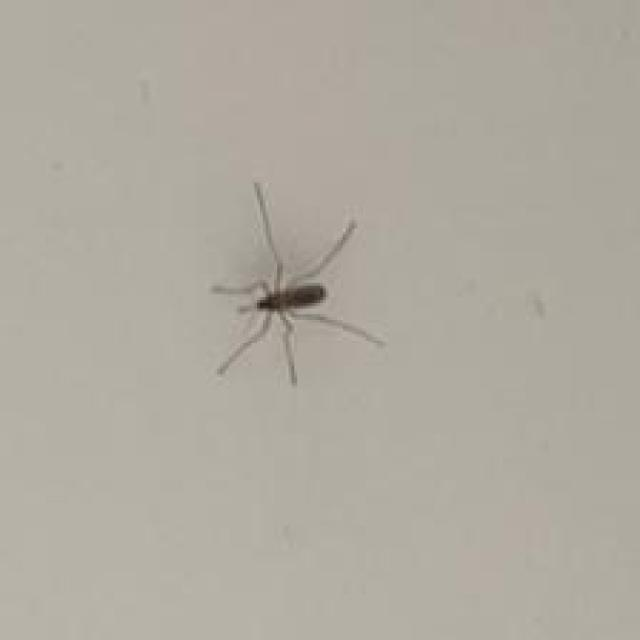Culex: (210, 180, 387, 386)
